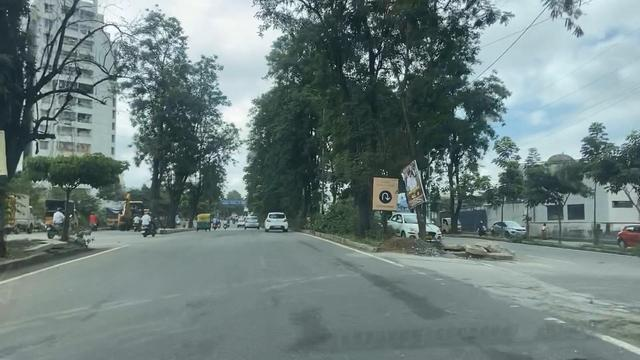LMV: (267, 207, 290, 234), (244, 211, 258, 230), (197, 213, 210, 231)
RoadDamages: (378, 281, 448, 318), (283, 315, 340, 356), (461, 338, 533, 360), (338, 259, 381, 287), (299, 240, 322, 254)
